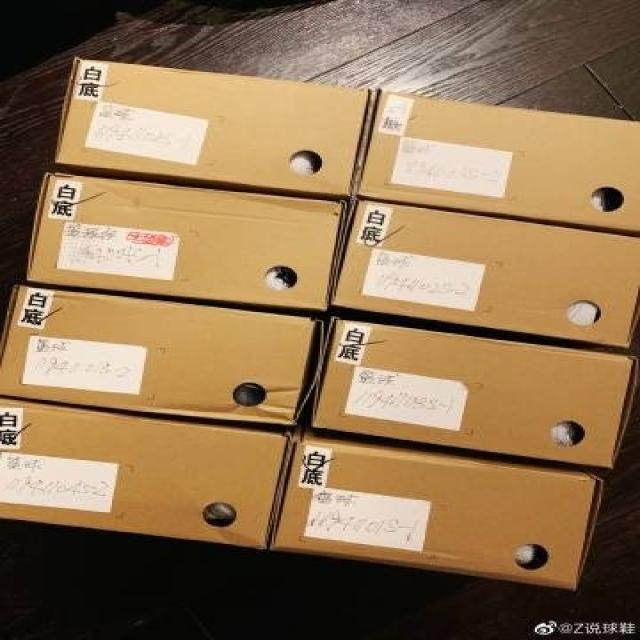box: (270, 428, 606, 591), (313, 316, 636, 468), (0, 284, 324, 425), (329, 199, 640, 345), (0, 397, 293, 549), (55, 57, 373, 197), (27, 172, 348, 309), (347, 88, 640, 235)
